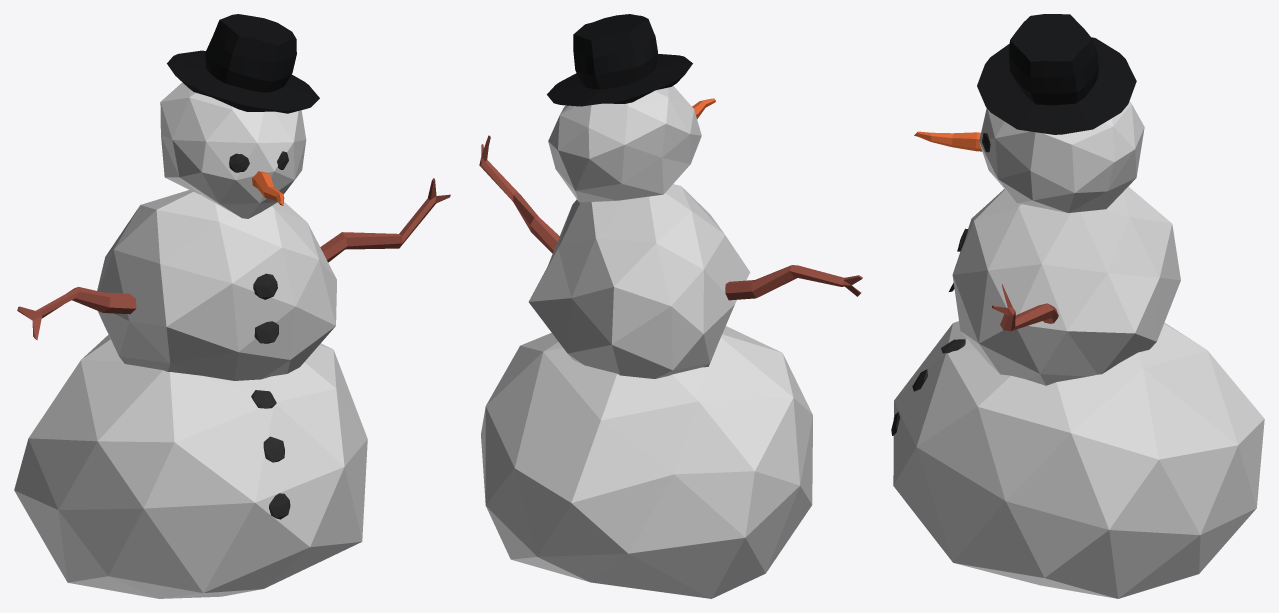
Rendered from Snowman.fbx.
3 renders of one model, left to right at view 1: azimuth 30°, elevation 25°; view 2: azimuth 150°, elevation 25°; view 3: azimuth 270°, elevation 25°, orthographic. The views are drawn at different scales.
Parts seen in each view (by area): view 1: Icosphere, Icosphere.001, Icosphere.002, Cylinder.002, Cylinder.003, Cylinder.001, Cylinder; view 2: Icosphere, Icosphere.001, Icosphere.002, Cylinder.002, Cylinder.001, Cylinder.003; view 3: Icosphere, Icosphere.001, Cylinder.002, Icosphere.002, Cylinder.003, Cylinder.
Part boxes in pixels (x1,y1,x2,y2): Icosphere: (14,335,367,598); Icosphere.001: (97,190,336,380); Icosphere.002: (160,82,306,218); Cylinder.002: (167,14,319,113); Cylinder.003: (320,178,450,262); Cylinder.001: (17,287,136,339); Cylinder: (252,171,284,205); Icosphere: (481,326,812,598); Icosphere.001: (528,184,750,378); Icosphere.002: (548,85,701,202); Cylinder.002: (547,14,692,106); Cylinder.001: (725,265,862,300); Cylinder.003: (479,135,559,253); Icosphere: (893,321,1264,598); Icosphere.001: (952,186,1180,385); Cylinder.002: (977,14,1136,134); Icosphere.002: (979,101,1144,212); Cylinder.003: (992,284,1058,331); Cylinder: (914,131,982,151).
Size of the model in its own units: 221 by 283 by 169.
